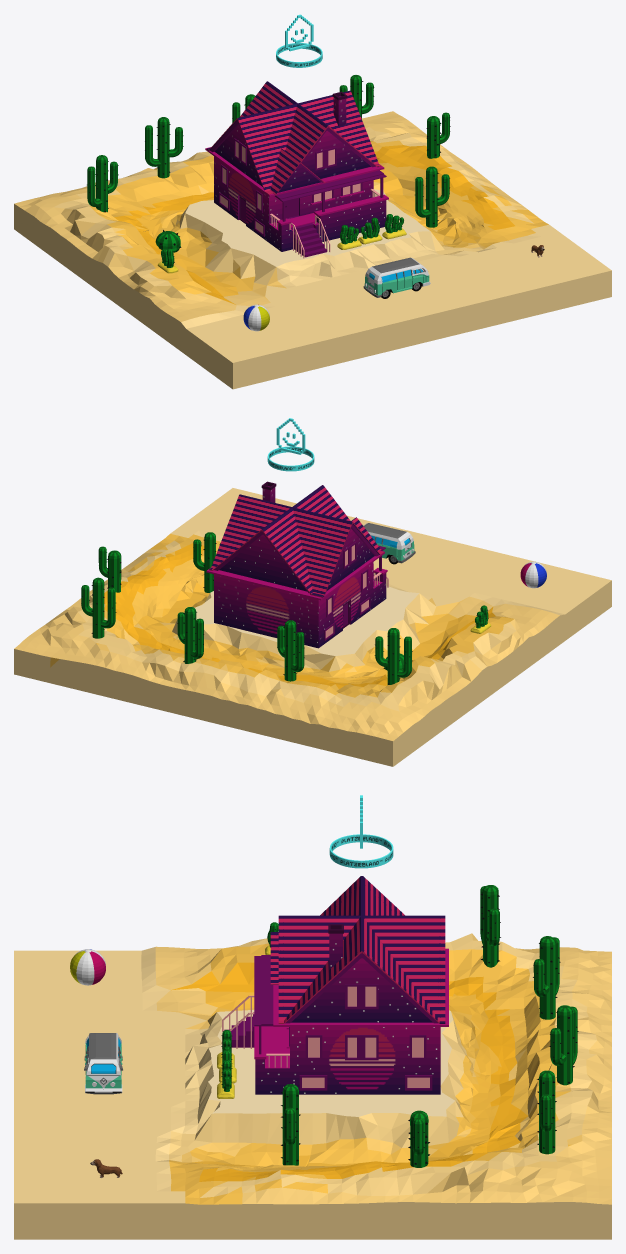
3 views of the same model, one above another, from view 1: azimuth 30°, elevation 25°; view 2: azimuth 150°, elevation 25°; view 3: azimuth 270°, elevation 25° (orthographic). The views are drawn at different scales.
Parts seen in each view (by area): view 1: Cube.001, Cube.156, VEHICLES_VAN, Cylinder.044, Cylinder.037, Cylinder.045, TYPE_PREMIUM, Cylinder.038, Cylinder.042, OBJRANDOM_BEACHBALL; view 2: Cube.001, Cube.156, Cylinder.042, Cylinder.045, Cylinder.044, VEHICLES_VAN, Cylinder.043, TYPE_PREMIUM, Cylinder.037, Cylinder.038, OBJRANDOM_BEACHBALL; view 3: Cube.001, Cube.156, VEHICLES_VAN, Cylinder.044, Cylinder.043, Cylinder.045, Cylinder.042, Cylinder.037, TYPE_PREMIUM, OBJRANDOM_BEACHBALL, Cylinder.038.
Part boxes in pixels (left/top/right/bottom): Cube.001: left=14, top=111, right=611, bottom=389; Cube.156: left=205, top=81, right=388, bottom=258; VEHICLES_VAN: left=363, top=257, right=430, bottom=298; Cylinder.044: left=145, top=117, right=183, bottom=178; Cylinder.037: left=415, top=166, right=449, bottom=227; Cylinder.045: left=87, top=155, right=118, bottom=212; TYPE_PREMIUM: left=276, top=14, right=322, bottom=67; Cylinder.038: left=426, top=112, right=450, bottom=158; Cylinder.042: left=339, top=75, right=374, bottom=118; OBJRANDOM_BEACHBALL: left=243, top=304, right=269, bottom=331; Cube.001: left=14, top=488, right=611, bottom=766; Cube.156: left=206, top=481, right=388, bottom=648; Cylinder.042: left=81, top=577, right=116, bottom=638; Cylinder.045: left=374, top=628, right=412, bottom=684; Cylinder.044: left=277, top=620, right=304, bottom=681; VEHICLES_VAN: left=363, top=523, right=415, bottom=564; Cylinder.043: left=177, top=607, right=203, bottom=663; TYPE_PREMIUM: left=267, top=418, right=314, bottom=471; Cylinder.037: left=193, top=532, right=220, bottom=592; Cylinder.038: left=98, top=546, right=121, bottom=592; OBJRANDOM_BEACHBALL: left=520, top=561, right=546, bottom=588; Cube.001: left=14, top=933, right=611, bottom=1239; Cube.156: left=222, top=876, right=448, bottom=1094; VEHICLES_VAN: left=84, top=1033, right=122, bottom=1094; Cylinder.044: left=533, top=936, right=560, bottom=1019; Cylinder.043: left=549, top=1005, right=578, bottom=1085; Cylinder.045: left=480, top=885, right=500, bottom=967; Cylinder.042: left=537, top=1070, right=556, bottom=1154; Cylinder.037: left=281, top=1084, right=300, bottom=1165; TYPE_PREMIUM: left=329, top=795, right=393, bottom=868; OBJRANDOM_BEACHBALL: left=70, top=949, right=105, bottom=985; Cylinder.038: left=408, top=1110, right=429, bottom=1167.
Bounding box in the file's own units: 4002 × 2415 × 4001.
Materials: 37 (5 with a texture image).
